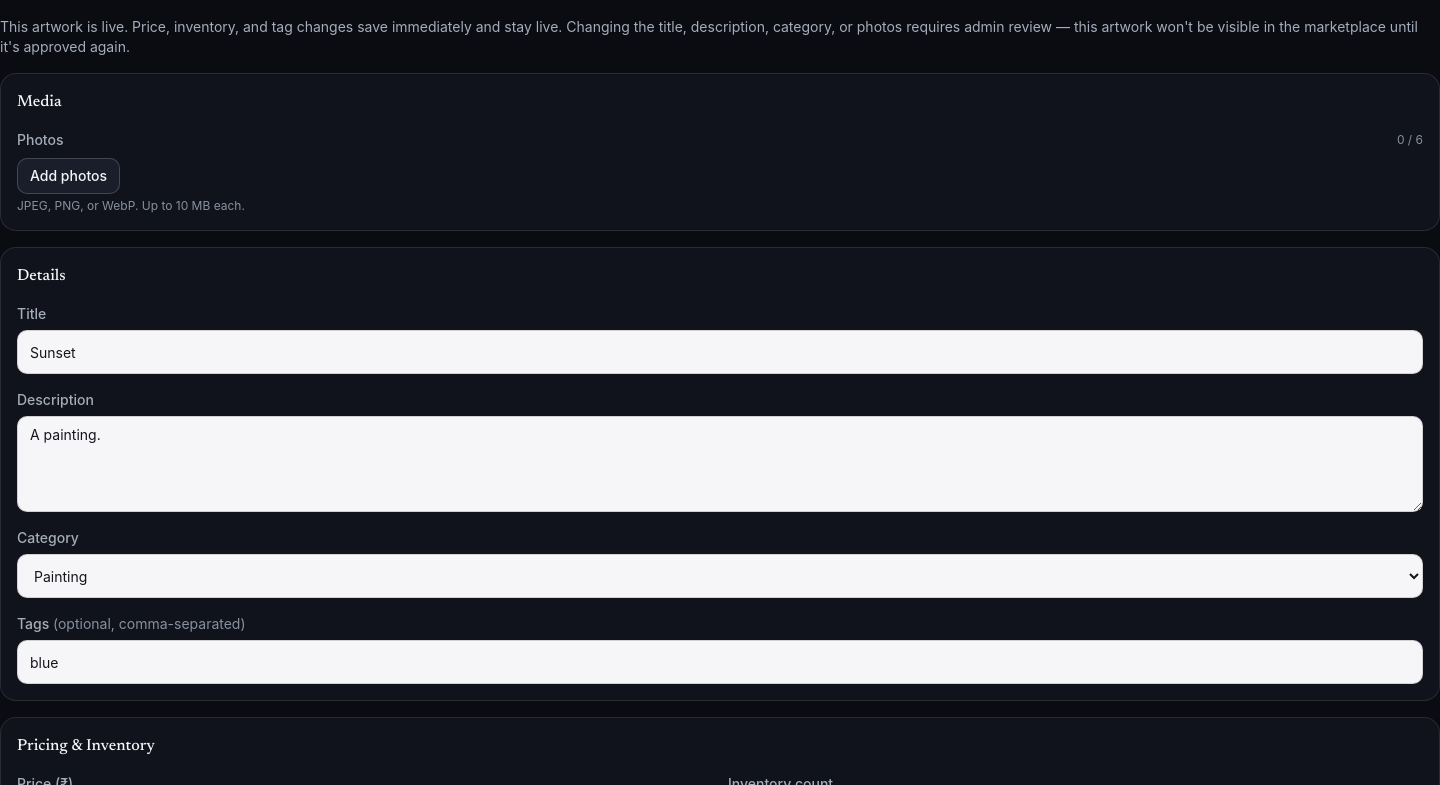
Test: ArtworkForm — edit mode (PUBLISHED, Module 13 Phase 4) › changing category alone also requires confirmation (a material field, not a safe one)
Step 1. Select "Sculpture" in the dropdown labelled "Category" → (720, 576), box [17,554,1423,598]
(page scrolled)
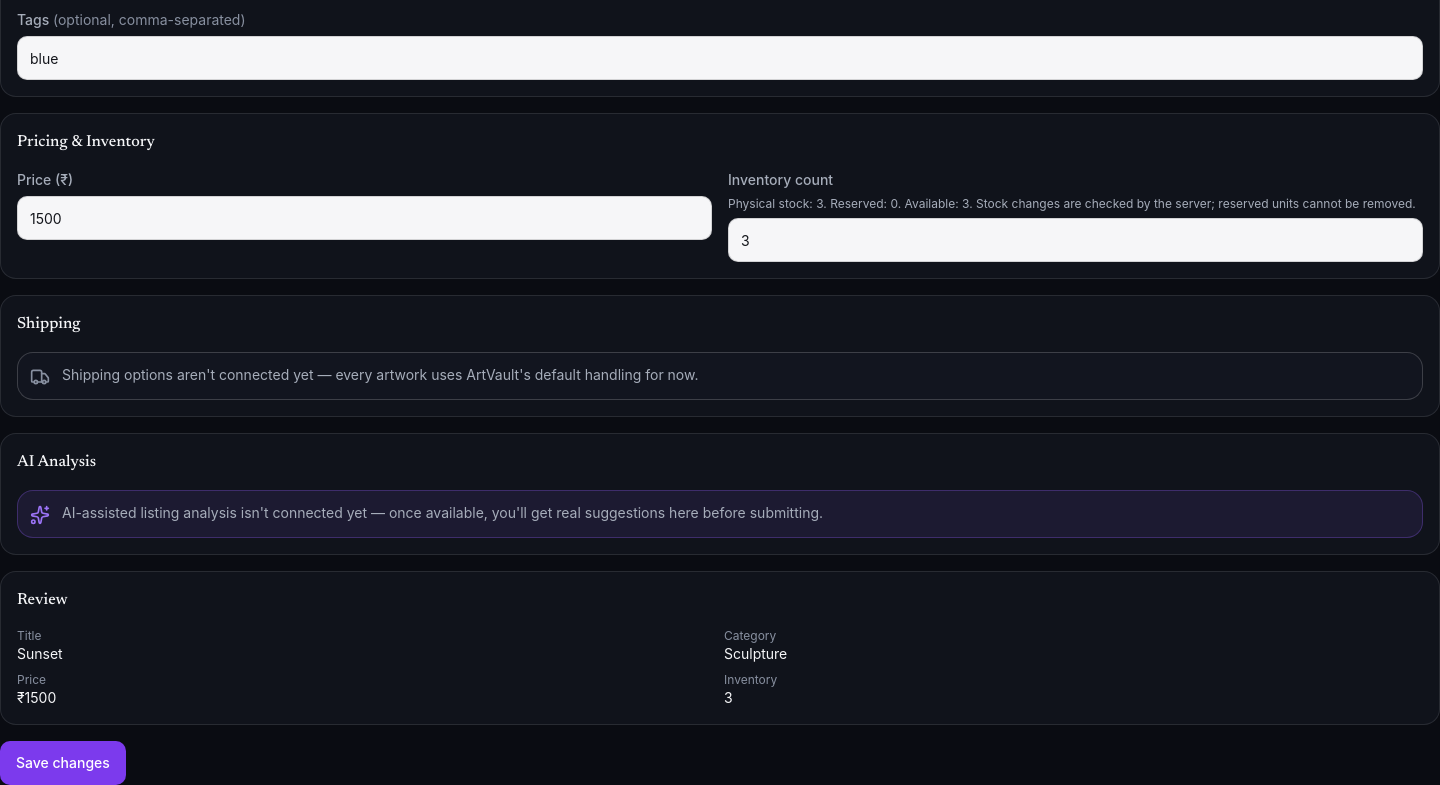
Step 2. Click the button "Save changes" → (63, 763), box [0,741,126,784]
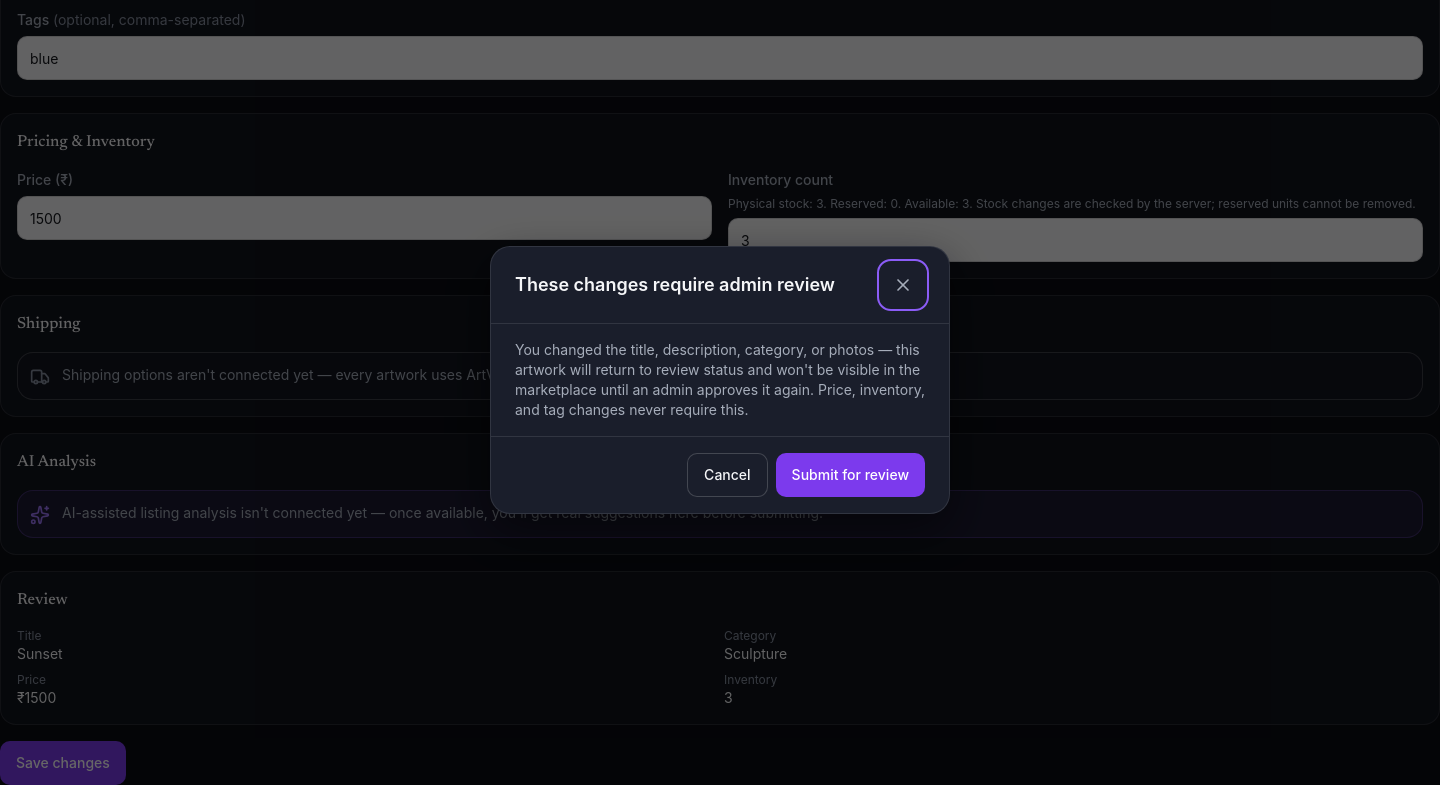
Expected: the dialog "require admin review" is shown, [490,246,950,514]
